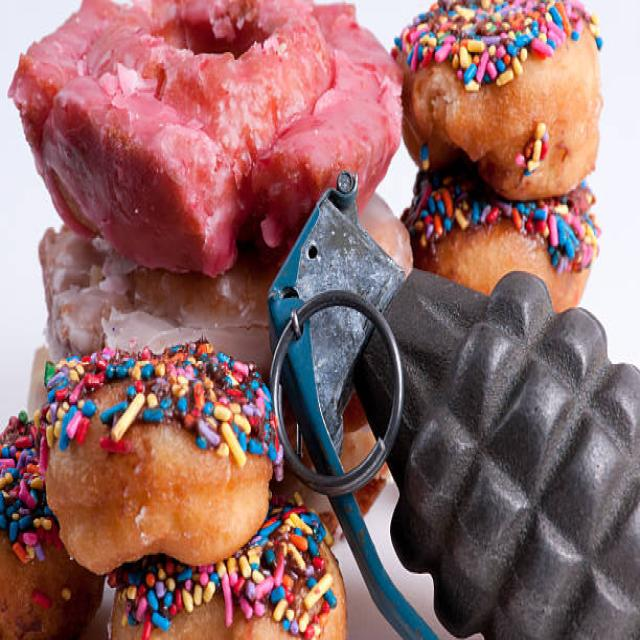grenade: (261, 168, 640, 640)
